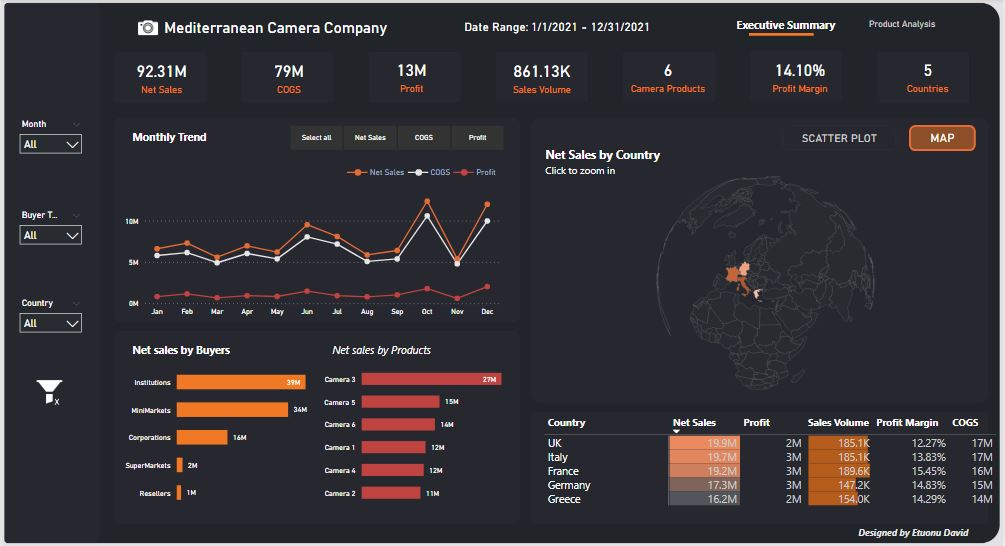

Layout of this report page (visuals, bound fields, positions):
{"tool":"powerbi","page":{"name":"Executive Summary","canvas":[1500,820],"ordinal":0},"visuals":[{"type":"shape","box":[1119.3,34.4,97.3,37.4],"z":0},{"type":"card","fields":{"Values":["_Measures.Net Sales"]},"box":[179,77.4,121,75.8],"z":1000},{"type":"card","fields":{"Values":["_Measures.COGS"]},"box":[371,78,119.4,74.2],"z":2000},{"type":"card","fields":{"Values":["_Measures.Profit"]},"box":[553.2,76.9,121,75.8],"z":3000},{"type":"card","fields":{"Values":["_Measures.Sales Volume"]},"box":[750,77.4,119.4,75.8],"z":4000},{"type":"card","fields":{"Values":["_Measures.Camera Products"]},"box":[930.6,75.8,133.9,75.8],"z":5000},{"type":"card","fields":{"Values":["_Measures.Profit Margin"]},"box":[1135.5,76.3,119.4,75.8],"z":6000},{"type":"card","fields":{"Values":["_Measures.Countries/Region"]},"box":[1325.8,76.9,121,75.8],"z":7000},{"type":"lineChart","fields":{"Y":["_Measures.Net Sales","_Measures.COGS","_Measures.Profit"],"Category":["Calendar.First Characters"]},"box":[179,238.7,571,241.9],"z":8000},{"type":"barChart","fields":{"Category":["Mediterranean Cameras Company.Buyer Type"],"Y":["_Measures.Net Sales"]},"box":[179,532.3,283.9,240.3],"z":9000},{"type":"barChart","fields":{"Category":["Mediterranean Cameras Company.Product"],"Y":["_Measures.Net Sales"]},"box":[477.3,532.7,299.3,234.9],"z":10000},{"type":"shapeMap","fields":{"Category":["Mediterranean Cameras Company.Country"],"Value":["_Measures.Net Sales"]},"box":[809.7,219.4,669.4,387],"z":11000},{"type":"pivotTable","fields":{"Rows":["Mediterranean Cameras Company.Country"],"Values":["_Measures.Net Sales","_Measures.Profit","_Measures.Sales Volume","_Measures.Profit Margin","_Measures.COGS"]},"box":[807.7,618.3,692.3,169.2],"z":12000},{"type":"textbox","title":"Mediterranean Camera Company","box":[1277.9,784.6,222.1,26.9],"z":13000},{"type":"actionButton","box":[1358.7,188.5,100.3,38.9],"z":17000},{"type":"actionButton","box":[1168.6,188.5,172.1,38.9],"z":18000},{"type":"slicer","fields":{"Values":["Analyze By.Analyze By"]},"box":[406.5,182.3,369.4,50],"z":19000},{"type":"textbox","box":[191.5,190,151.1,73.3],"z":20000},{"type":"textbox","box":[191.9,508.1,179,74.2],"z":21000},{"type":"textbox","box":[490.3,508.1,222.6,74.2],"z":22000},{"type":"slicer","fields":{"Values":["Calendar.First Characters"]},"box":[18.3,175,113.3,101.7],"z":23000},{"type":"pageNavigator","box":[1092.3,13.5,338.2,49.4],"z":24000},{"type":"textbox","box":[809.7,240.3,150,74.2],"z":25000},{"type":"slicer","fields":{"Values":["Mediterranean Cameras Company.Buyer Type"]},"box":[18.3,311.7,113.3,101.7],"z":26000},{"type":"slicer","fields":{"Values":["Mediterranean Cameras Company.Country"]},"box":[18.3,443.3,113.3,101.7],"z":27000},{"type":"textbox","title":"Mediterranean Camera Company","box":[239.4,29.9,472.8,64.3],"z":28000},{"type":"image","box":[193.5,24.2,53.2,40.3],"z":29000},{"type":"image","box":[43.5,545.2,58.1,85.5],"z":30000},{"type":"actionButton","box":[18.4,545.2,113.7,85.3],"z":31000},{"type":"textbox","title":"Date Range: 1/1/2021 - 12/31/2021","box":[688.3,31.4,320.2,73.3],"z":32000}]}

Visuals, with their boxes in screenshot pixels (x1, y1, x2, y2), scaled from the page's 1500x820 canvas onto the 1005x546 screenshot:
shape: 750/23/815/48
card - _Measures.Net Sales: 120/52/201/102
card - _Measures.COGS: 249/52/329/101
card - _Measures.Profit: 371/51/452/102
card - _Measures.Sales Volume: 503/52/582/102
card - _Measures.Camera Products: 624/50/713/101
card - _Measures.Profit Margin: 761/51/841/101
card - _Measures.Countries/Region: 888/51/969/102
lineChart - _Measures.Net Sales x _Measures.COGS: 120/159/503/320
barChart - Mediterranean Cameras Company.Buyer Type x _Measures.Net Sales: 120/354/310/514
barChart - Mediterranean Cameras Company.Product x _Measures.Net Sales: 320/355/520/511
shapeMap - Mediterranean Cameras Company.Country x _Measures.Net Sales: 542/146/991/404
pivotTable - Mediterranean Cameras Company.Country x _Measures.Net Sales: 541/412/1004/524
"Mediterranean Camera Company" textbox: 856/522/1004/540
actionButton: 910/126/978/151
actionButton: 783/126/898/151
slicer - Analyze By.Analyze By: 272/121/520/155
textbox: 128/127/230/175
textbox: 129/338/249/388
textbox: 329/338/478/388
slicer - Calendar.First Characters: 12/117/88/184
pageNavigator: 732/9/958/42
textbox: 542/160/643/209
slicer - Mediterranean Cameras Company.Buyer Type: 12/208/88/275
slicer - Mediterranean Cameras Company.Country: 12/295/88/363
"Mediterranean Camera Company" textbox: 160/20/477/63
image: 130/16/165/43
image: 29/363/68/420
actionButton: 12/363/89/420
"Date Range: 1/1/2021 - 12/31/2021" textbox: 461/21/676/70
